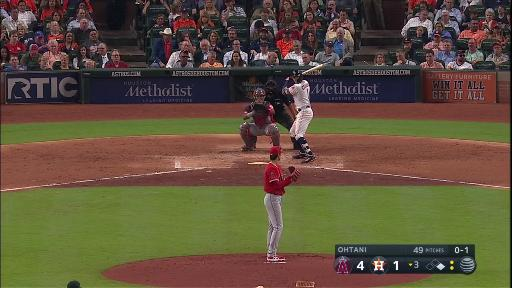pitcher: (264, 146, 300, 262)
